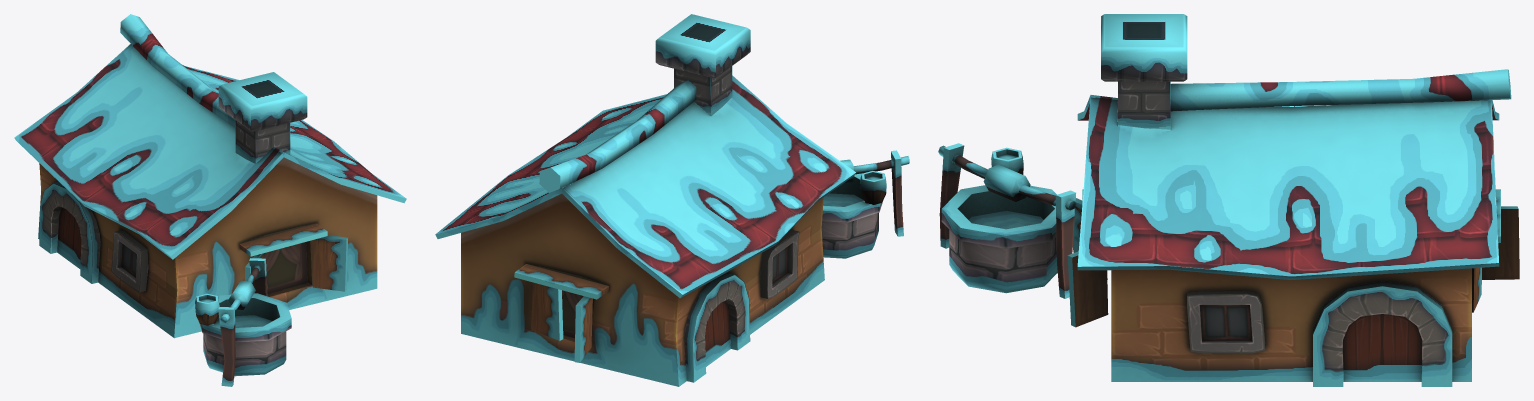
File: House1.FBX
3 renders of one model, left to right at view 1: azimuth 30°, elevation 25°; view 2: azimuth 150°, elevation 25°; view 3: azimuth 270°, elevation 25°, orthographic. The views are drawn at different scales.
Visible parts, largest first — view 1: House1; view 2: House1; view 3: House1.
Part boxes in pixels (x1,y1,x2,y2): House1: (14, 14, 406, 386); House1: (435, 14, 909, 386); House1: (938, 14, 1519, 386).
Bounding box in the file's own units: 189 × 154 × 284.
